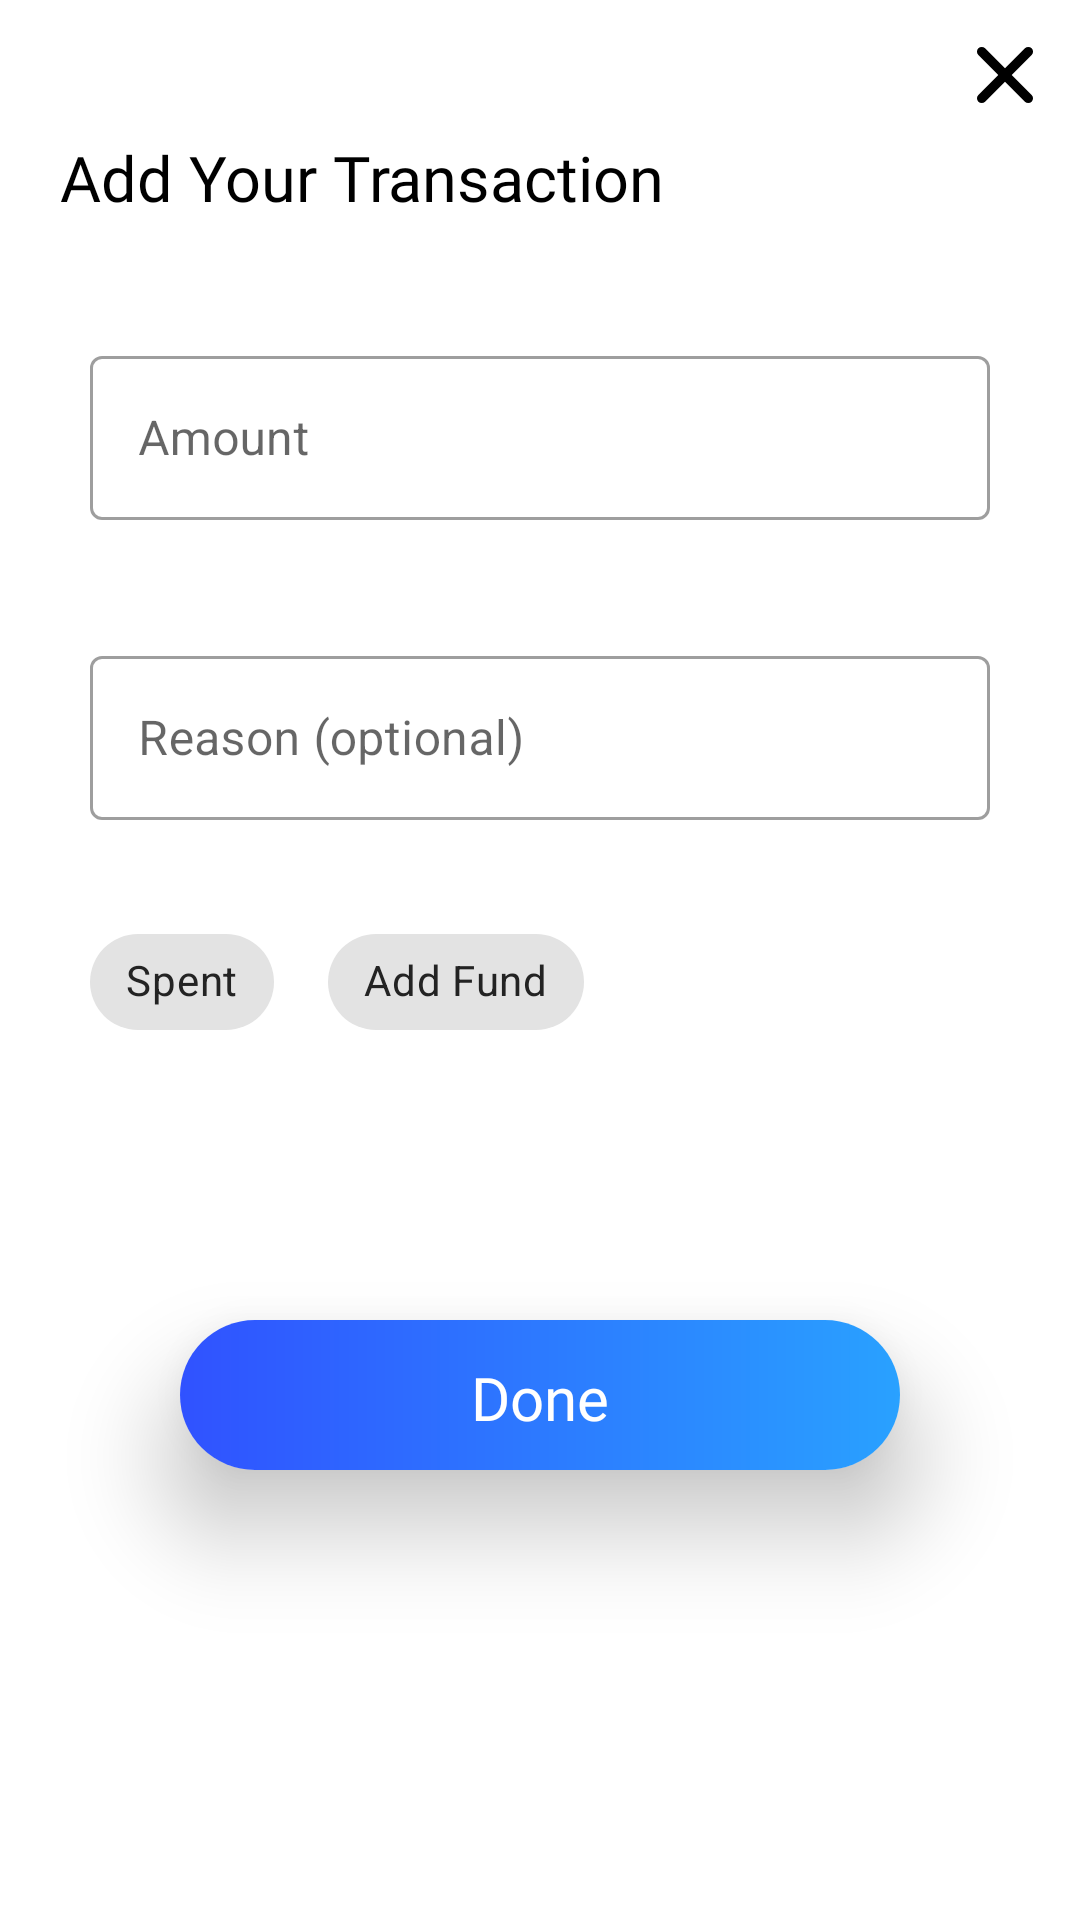

Icon click points for this 1080px x 1920px phone screenshot, format (x,y):
close: (1005,75)
